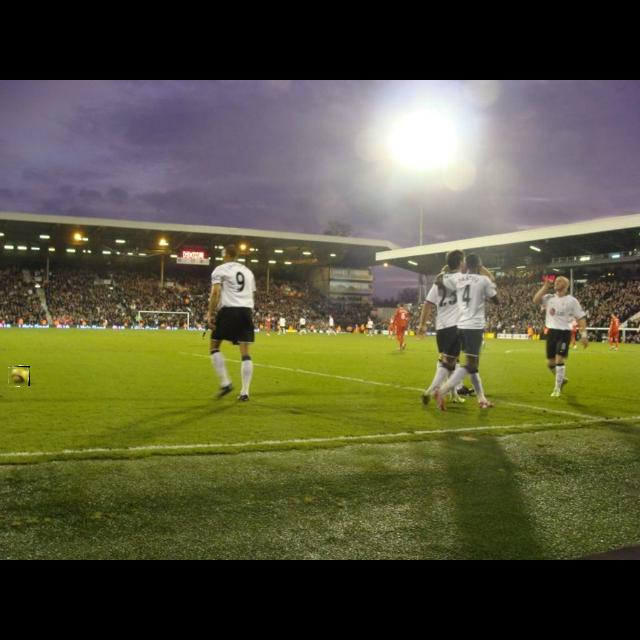Football: (8, 366, 30, 386)
